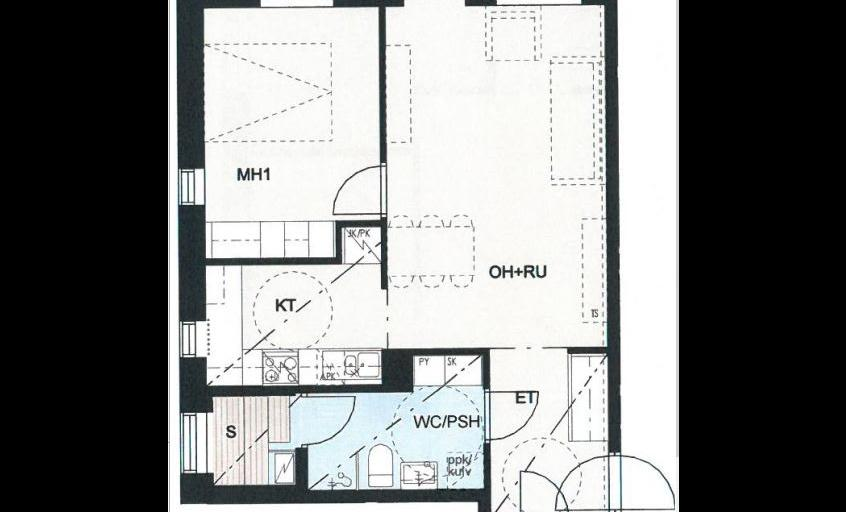door: (606, 451, 675, 512), (554, 452, 622, 512), (294, 392, 356, 450), (328, 162, 388, 219), (483, 386, 541, 444), (516, 467, 577, 512)
window: (178, 408, 212, 478), (178, 315, 208, 364), (177, 164, 204, 210), (253, 0, 338, 8)
